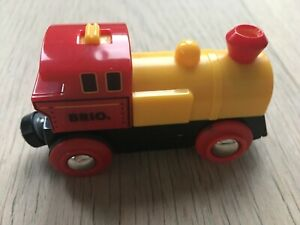brio: (16, 11, 276, 187)
